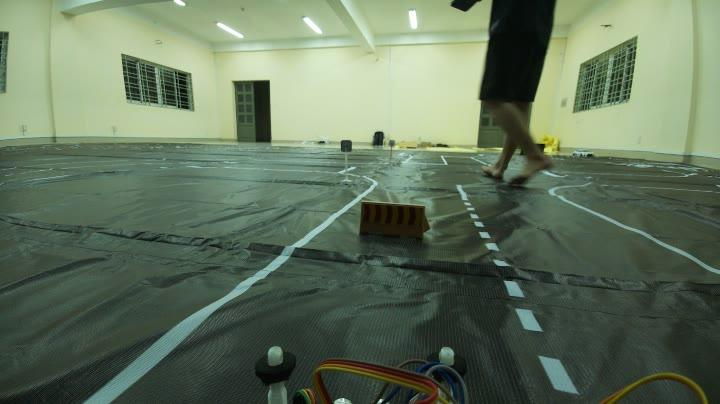roadblock: (340, 190, 445, 252)
